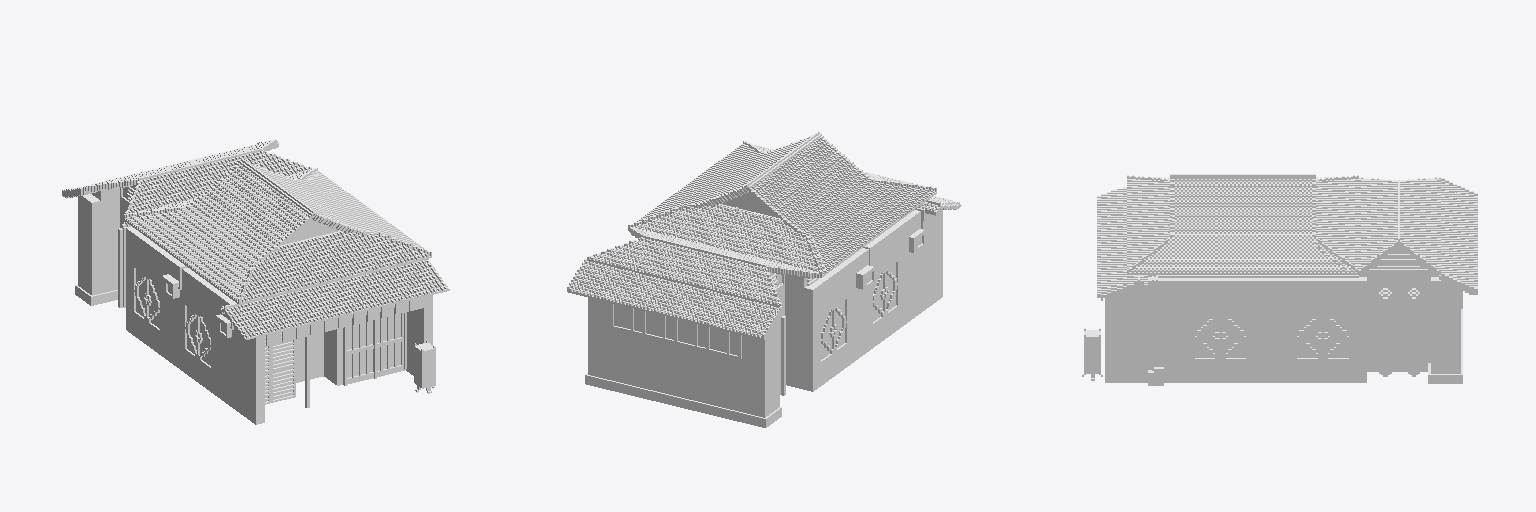
File: GDS2_Food-1.obj
3 views of the same model, side by side, from view 1: azimuth 30°, elevation 25°; view 2: azimuth 150°, elevation 25°; view 3: azimuth 270°, elevation 25° (orthographic).
Visible parts, largest first — view 1: object 1; view 2: object 1; view 3: object 1.
Part boxes in pixels (left/top/right/bottom): object 1: left=62, top=139, right=449, bottom=424; object 1: left=567, top=131, right=961, bottom=427; object 1: left=1082, top=174, right=1477, bottom=385.
Bounding box in the file's own units: 11.5 × 9 × 19.3.